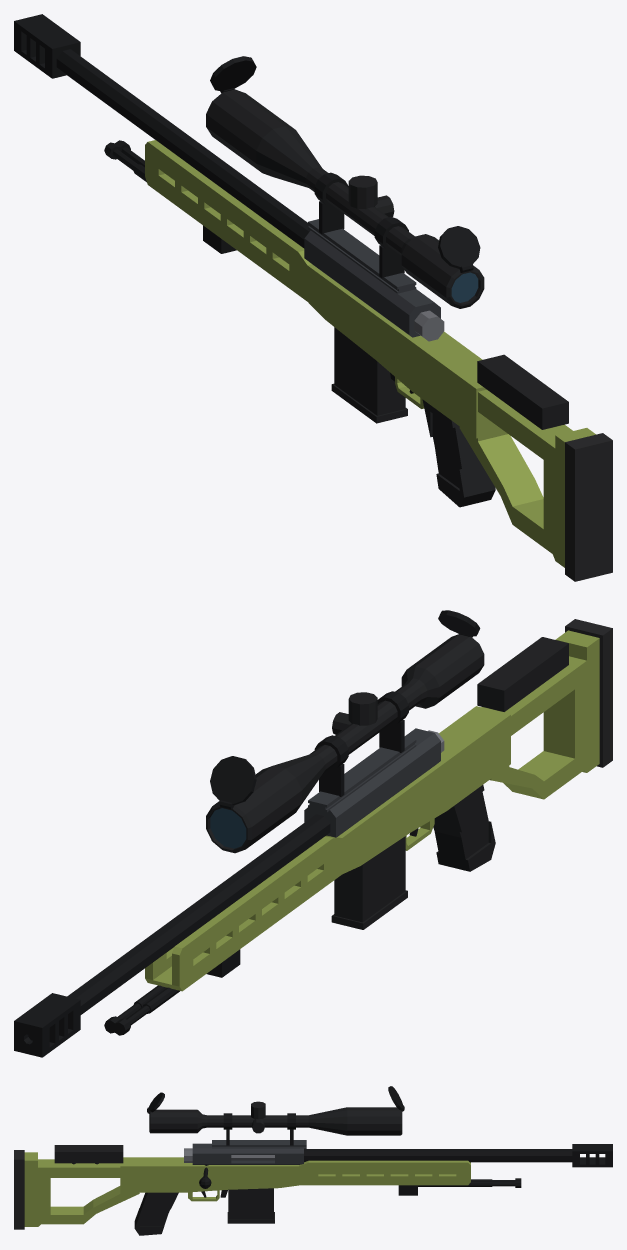
The model's file is Sniper.fbx.
3 renders of one model, top to bottom at view 1: azimuth 30°, elevation 25°; view 2: azimuth 150°, elevation 25°; view 3: azimuth 270°, elevation 25°, orthographic. The views are drawn at different scales.
Parts seen in each view (by area): view 1: Chassis, Scope, Barrel, Stock, ButtPad, Receiver, Mag, Grip, CheekPiece, ScopeRings, ScopeCapRear, ScopeCapFront; view 2: Chassis, Scope, Barrel, Stock, Receiver, Mag, CheekPiece, Grip, ButtPad, ScopeRings, ScopeCapFront, ScopeLensFront (+2 smaller); view 3: Chassis, Scope, Barrel, Stock, Receiver, Mag, Grip, CheekPiece, ButtPad, ScopeRings, BipodLegR, Bolt.
Boxes of the visible parts, x1,y1,x2,y2 form: Chassis: [145, 140, 504, 438]; Scope: [206, 89, 484, 308]; Barrel: [14, 14, 309, 248]; Stock: [459, 389, 595, 567]; ButtPad: [565, 433, 612, 581]; Receiver: [304, 219, 440, 337]; Mag: [331, 327, 407, 423]; Grip: [422, 399, 495, 507]; CheekPiece: [477, 354, 568, 429]; ScopeRings: [314, 172, 408, 278]; ScopeCapRear: [438, 226, 480, 272]; ScopeCapFront: [210, 56, 256, 93]; Chassis: [145, 706, 510, 991]; Scope: [206, 634, 484, 853]; Barrel: [14, 814, 330, 1057]; Stock: [481, 630, 599, 799]; Receiver: [304, 728, 440, 837]; Mag: [331, 836, 407, 929]; CheekPiece: [477, 637, 568, 711]; Grip: [433, 785, 495, 871]; ButtPad: [565, 619, 612, 767]; ScopeRings: [314, 691, 408, 796]; ScopeCapFront: [210, 756, 256, 809]; ScopeLensFront: [210, 808, 246, 848]; Chassis: [120, 1157, 470, 1201]; Scope: [149, 1101, 402, 1135]; Barrel: [304, 1144, 612, 1167]; Stock: [24, 1152, 139, 1226]; Receiver: [192, 1140, 306, 1164]; Mag: [227, 1188, 274, 1223]; Grip: [134, 1192, 178, 1235]; CheekPiece: [54, 1145, 123, 1164]; ButtPad: [14, 1150, 24, 1229]; ScopeRings: [223, 1113, 295, 1145]; BipodLegR: [418, 1180, 521, 1187]; Bolt: [184, 1148, 274, 1162].
Size of the model in its own units: 35.99 by 165 by 620.
